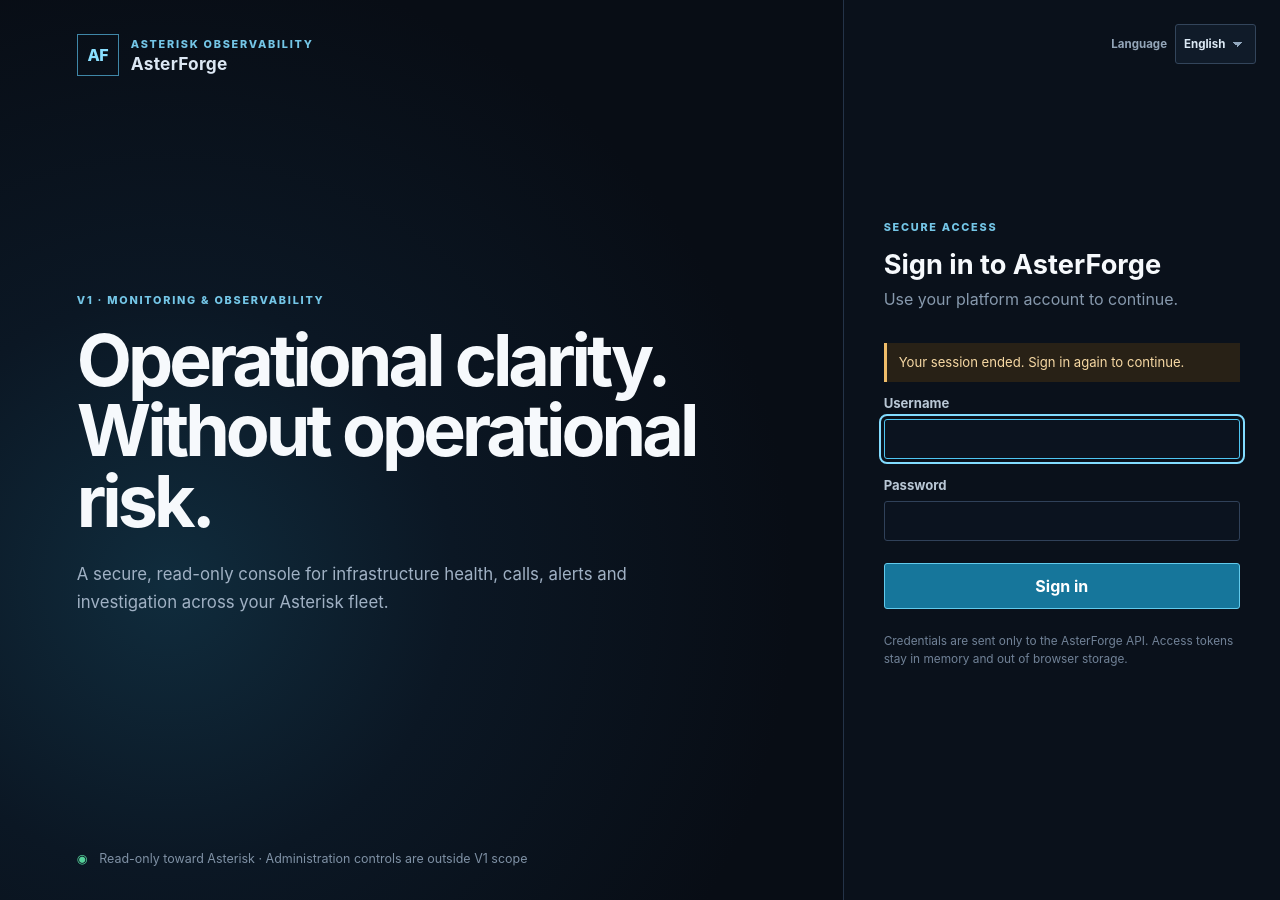
it: App › shows a generic authentication error
Type "operator" into the field labelled "Username".
click(1062, 439); type("operator")  # box [884,419,1240,459]
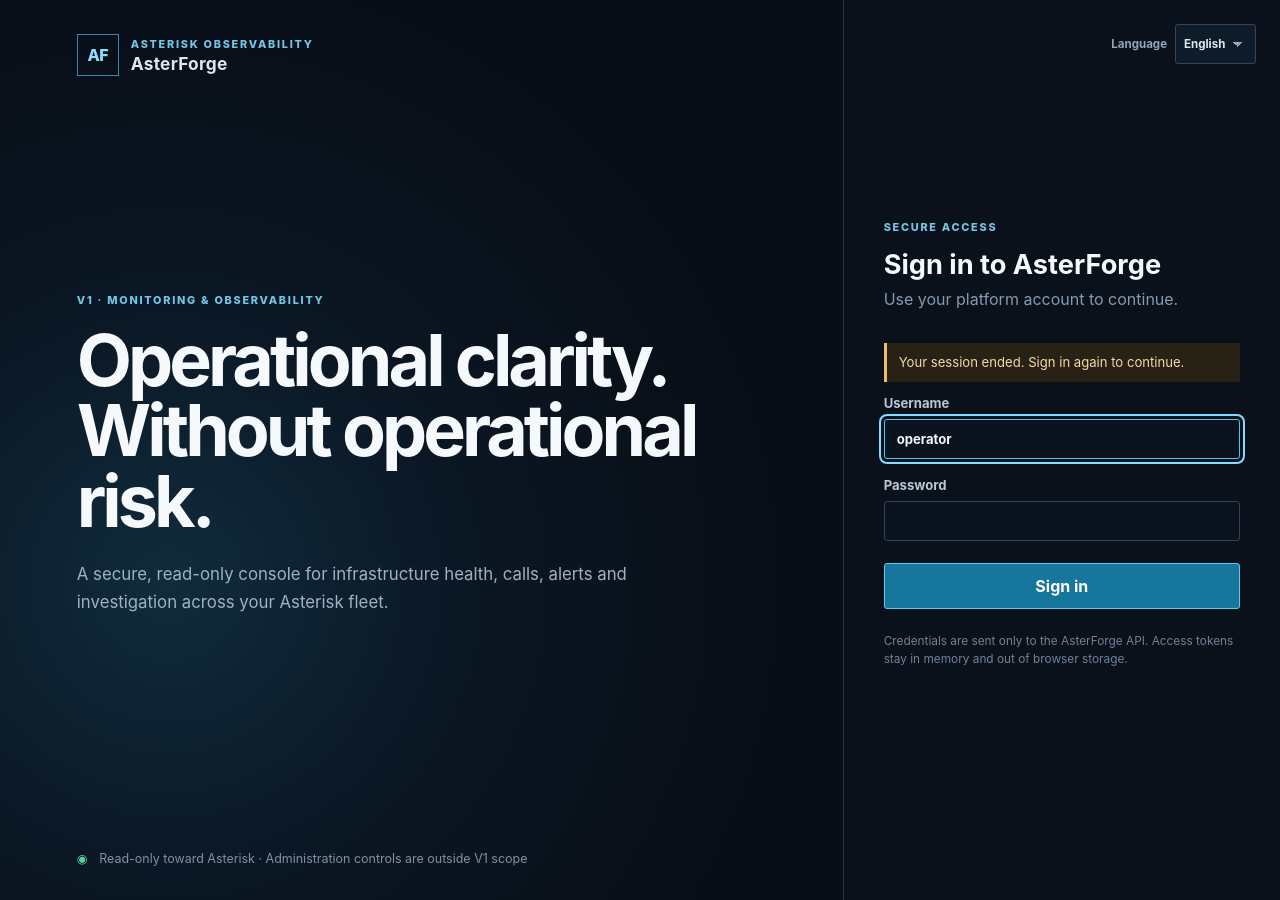
Type "correct horse battery staple" into the password field labelled "Password".
click(1062, 521); type("correct horse battery staple")  # box [884,501,1240,541]
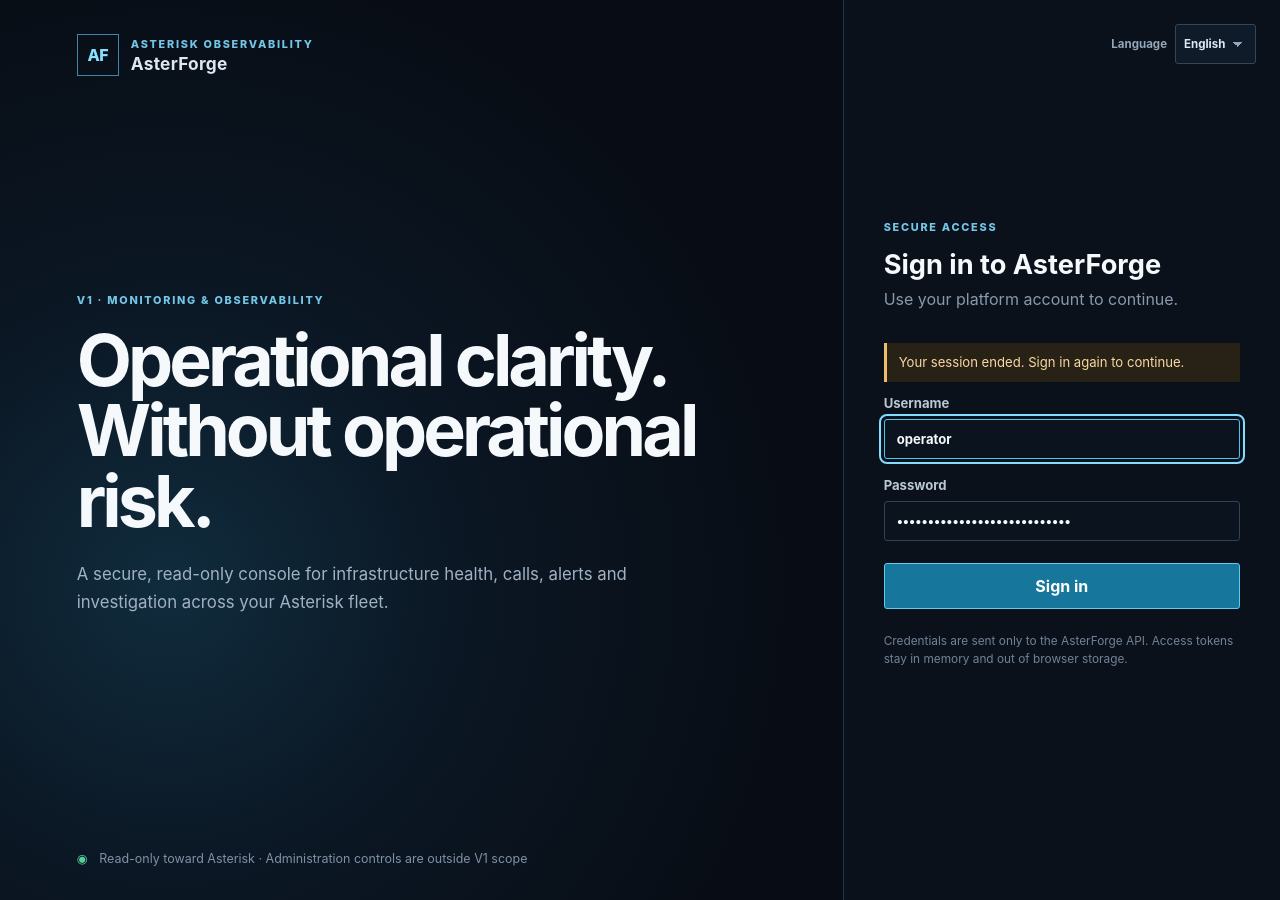
Click the button "Sign in".
click(1062, 586)  # box [884,563,1240,609]
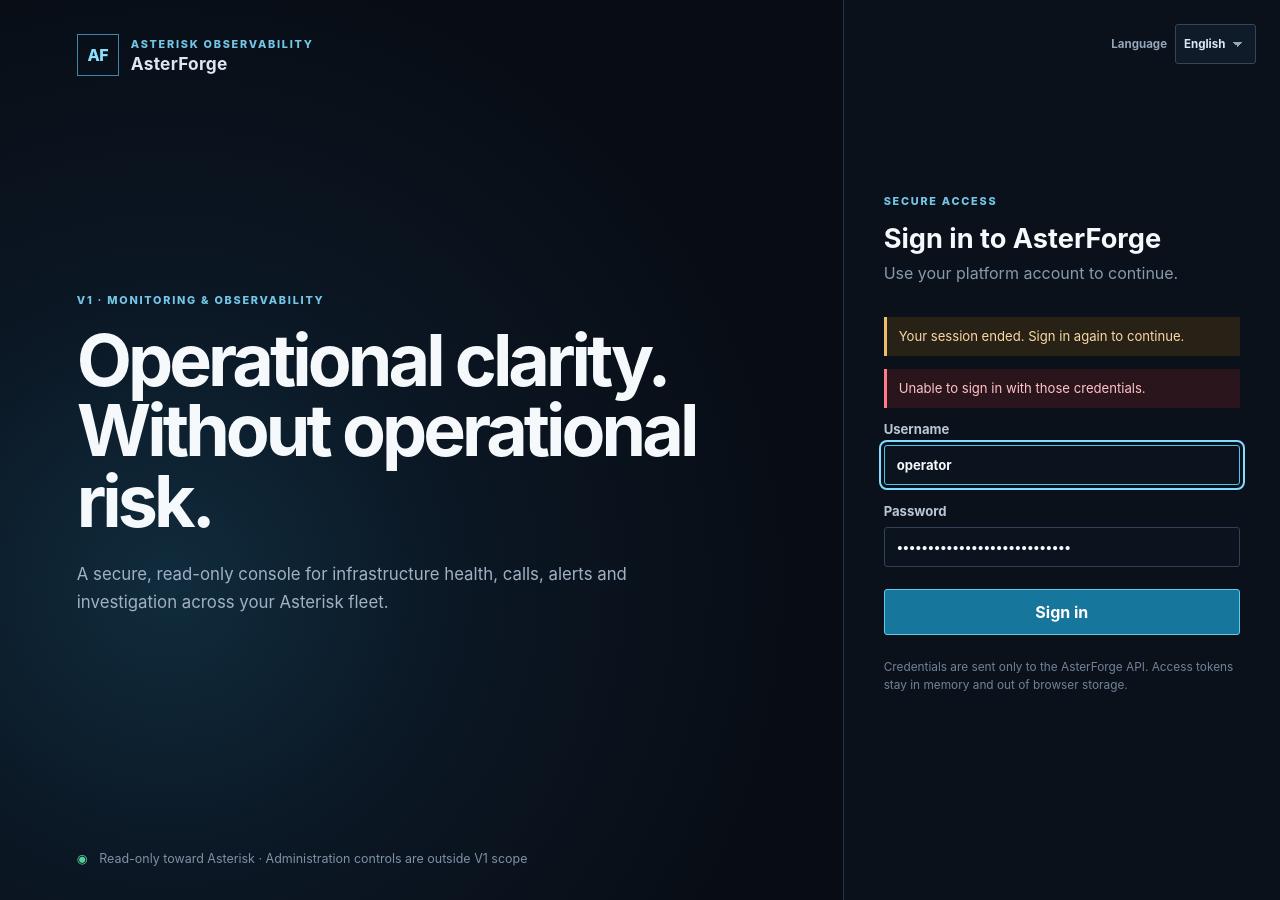
Check: the text "Unable to sign in with those credentials." is shown, box [884,369,1240,408]
